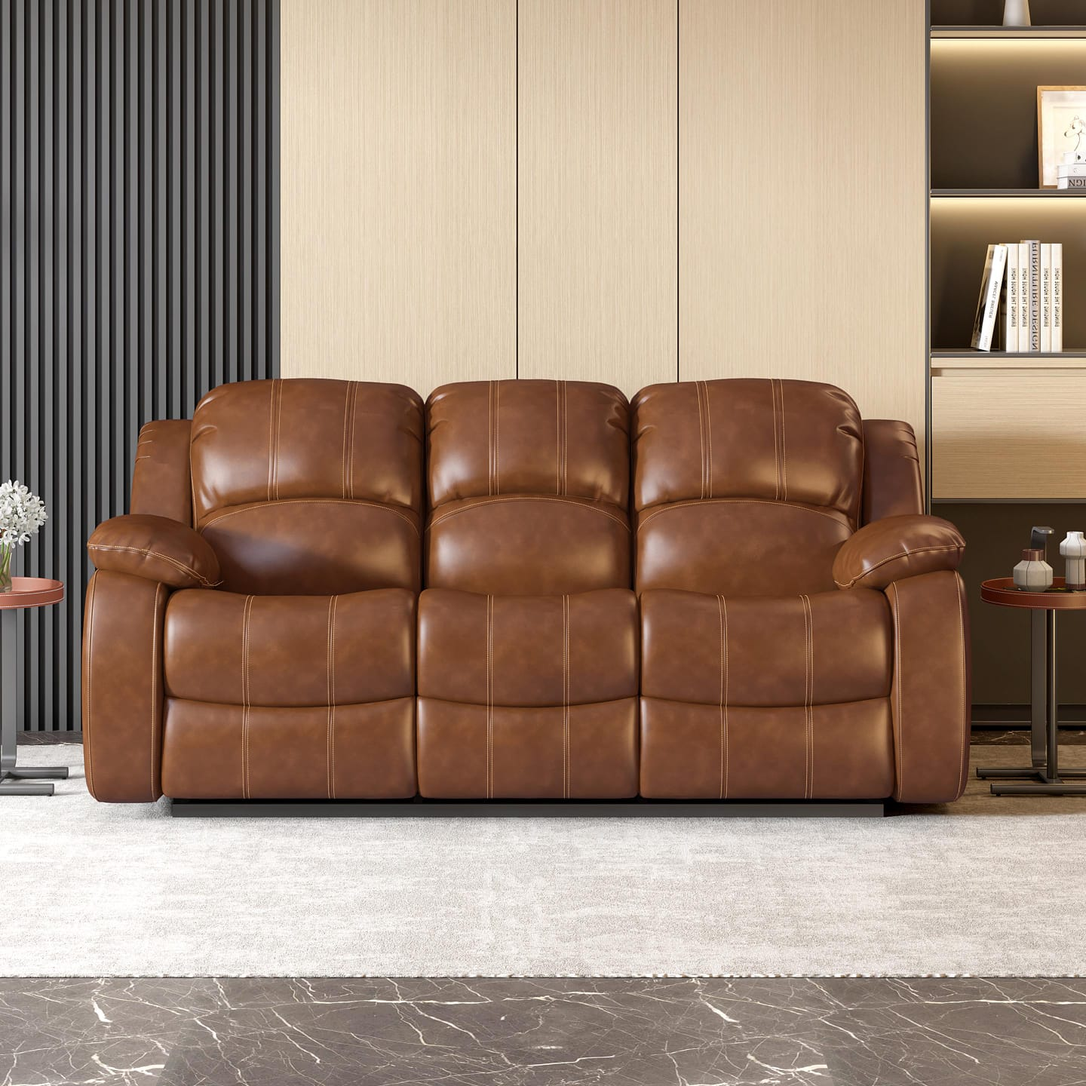backrest: (137, 378, 920, 594)
base: (421, 698, 893, 799), (163, 698, 417, 798)
leftarmrest: (834, 516, 970, 802)
rightarmrest: (83, 513, 221, 801)
seat: (164, 589, 893, 710)
